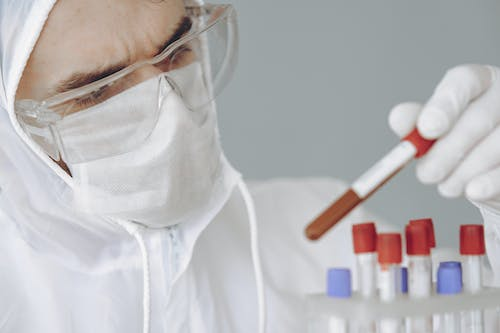blood: (303, 152, 406, 242)
